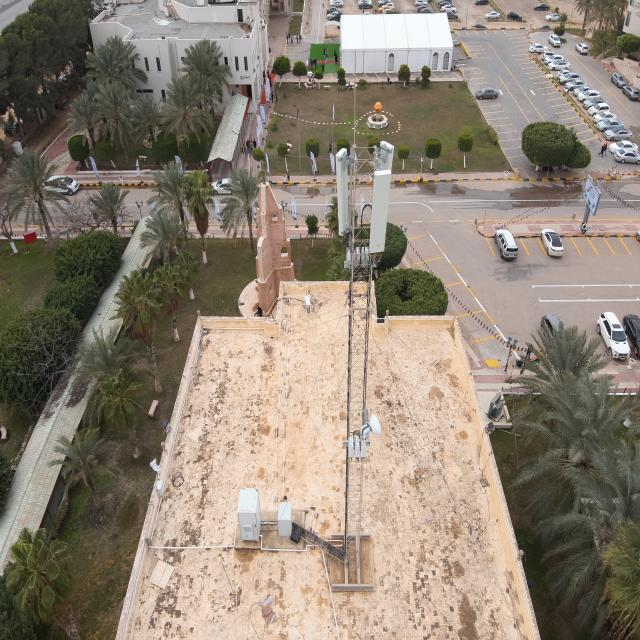antenna: (372, 138, 396, 242), (368, 168, 392, 254), (334, 146, 352, 238)
lighnig-rad: (353, 49, 357, 149)
microware-dish: (361, 412, 383, 438)
power-box: (347, 434, 368, 459)
radio-unit: (344, 245, 378, 270)
